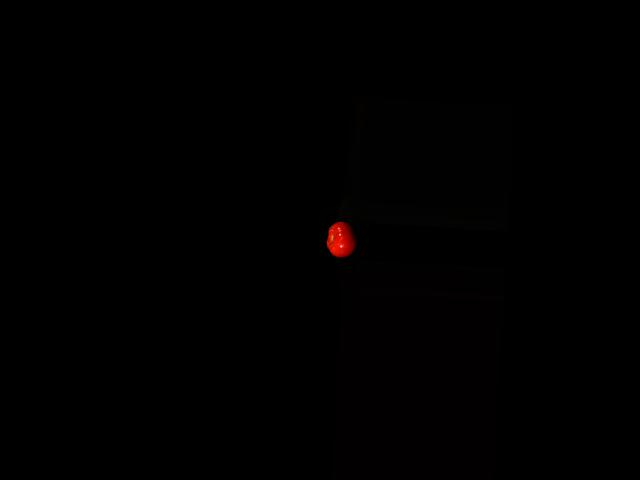tomato: (326, 221, 357, 259)
